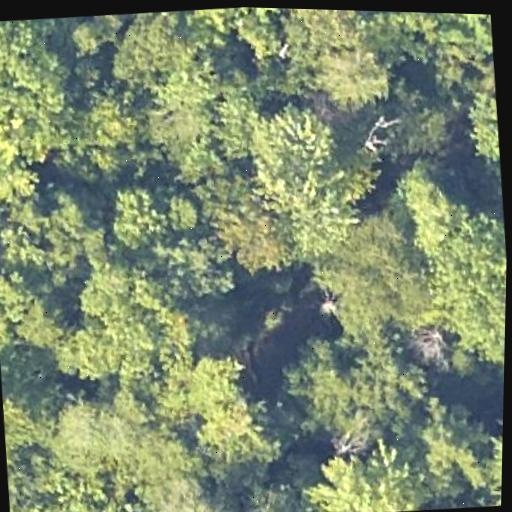tree-top: (235, 91, 370, 247), (275, 327, 431, 450), (64, 256, 204, 385), (414, 197, 508, 374), (303, 214, 428, 342), (0, 14, 90, 183), (141, 66, 256, 184), (180, 368, 289, 476), (382, 156, 488, 266), (400, 390, 495, 503), (0, 182, 103, 286), (307, 437, 432, 512), (304, 28, 402, 122), (42, 387, 147, 474), (423, 398, 503, 510), (102, 7, 201, 90), (156, 222, 247, 308), (0, 360, 64, 469), (374, 80, 458, 163), (453, 66, 504, 186), (411, 12, 496, 80), (102, 178, 175, 256), (179, 5, 286, 56), (227, 199, 295, 278), (147, 465, 247, 512), (59, 12, 130, 59), (0, 264, 29, 372), (241, 476, 322, 512), (476, 408, 503, 507), (420, 495, 501, 512)
